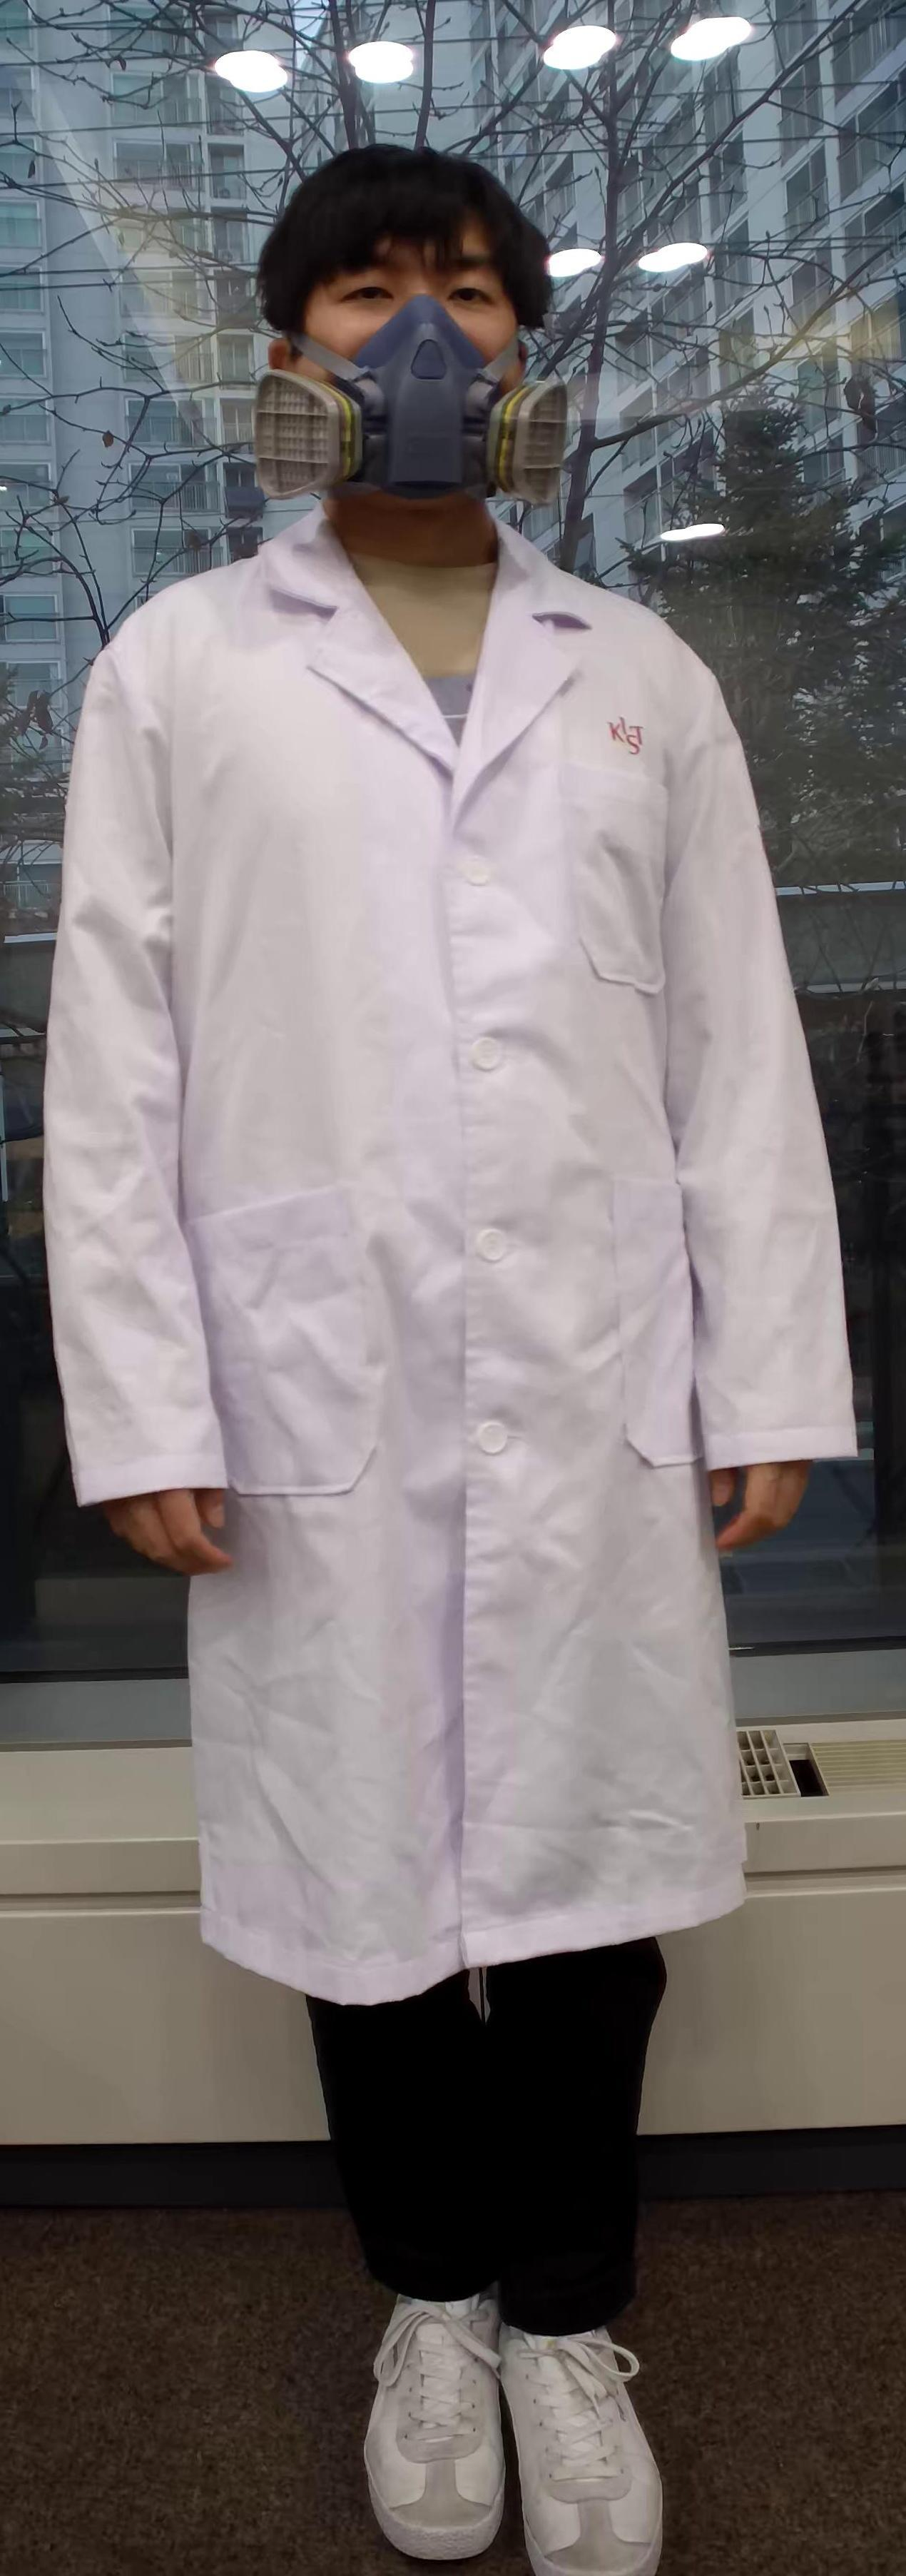lab_coat: (187, 586, 739, 1947)
